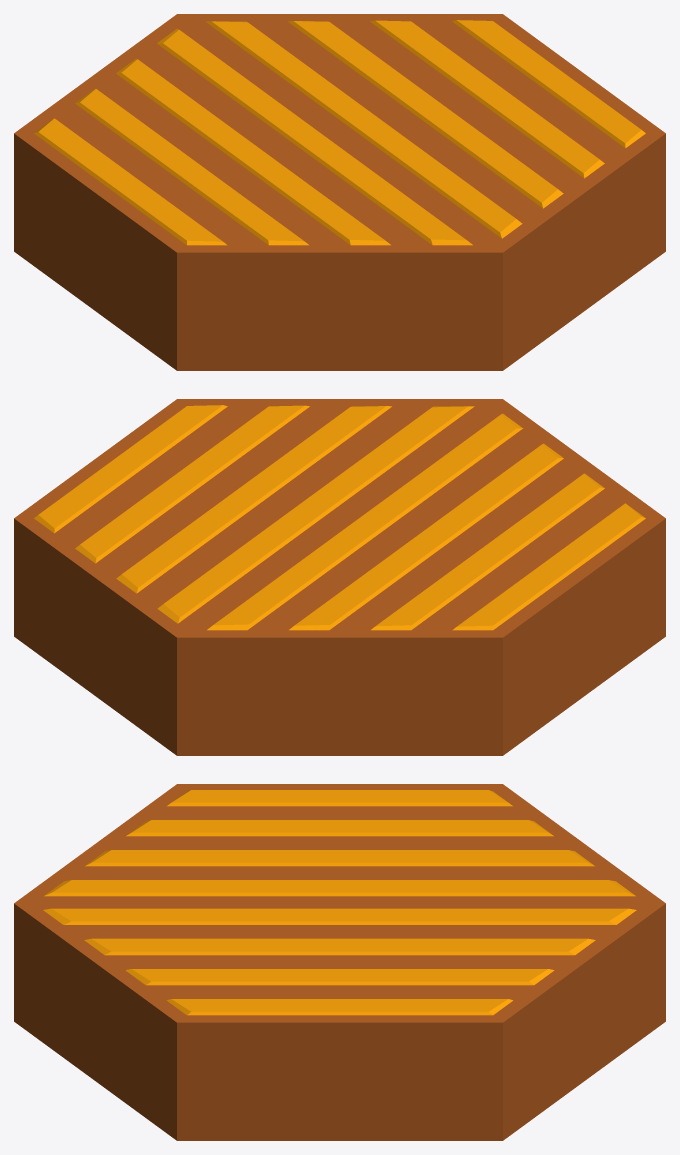
The model's file is TileHex_07.fbx.
The picture shows the model from 3 angles, top to bottom: view 1: azimuth 30°, elevation 25°; view 2: azimuth 150°, elevation 25°; view 3: azimuth 270°, elevation 25°; orthographic projection.
Parts seen in each view (by area): view 1: TileHex_07; view 2: TileHex_07; view 3: TileHex_07.
Part boxes in pixels (x1,y1,x2,y2): TileHex_07: (14,14,665,370); TileHex_07: (14,399,665,755); TileHex_07: (14,784,665,1140).
Bounding box in the file's own units: 433 × 102 × 500.
